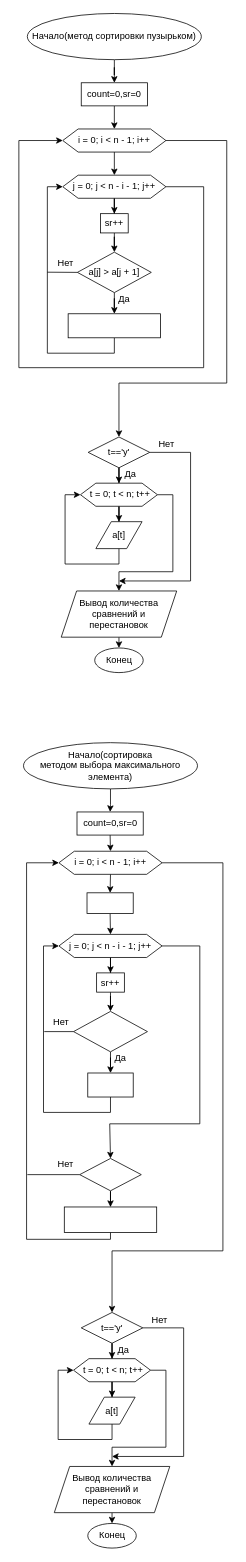
Image size: 246x1562. Some labels were removed from this diagram. The shapes that lost their labels are listed below. From the top down, each one's centre as x and y in pixels, then its label:
At (x=114, y=325): "swap(a[j], a[j + 1]) count++".
At (x=109, y=903): "minm = i".
At (x=110, y=1031): "a[j] < a[minm]".
At (x=110, y=1084): "minm = j".
At (x=110, y=1174): "minm != i".
At (x=110, y=1219): "swap(a[i], a[minm]) count++".
